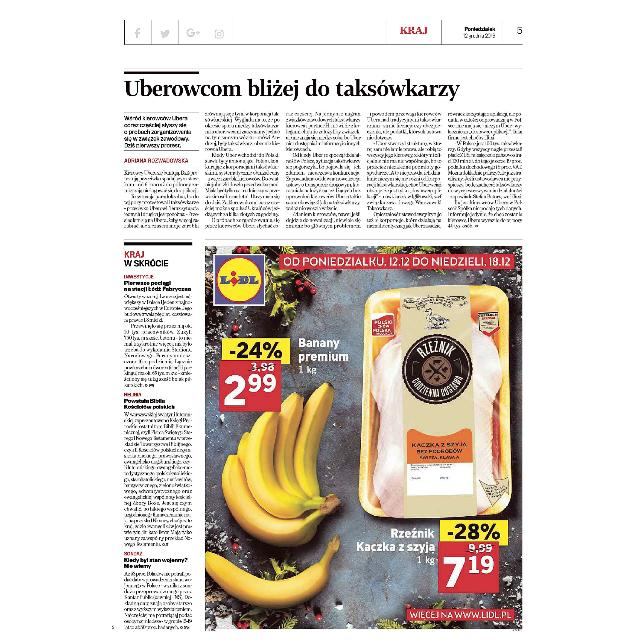article: (121, 67, 525, 235), (120, 240, 196, 632)
